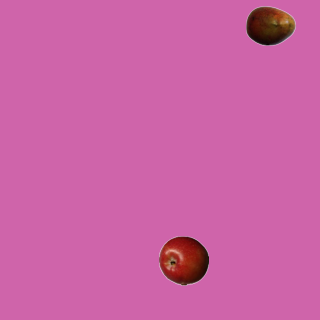Apple Braeburn: (158, 235, 208, 285)
Mango Red: (245, 0, 295, 50)
